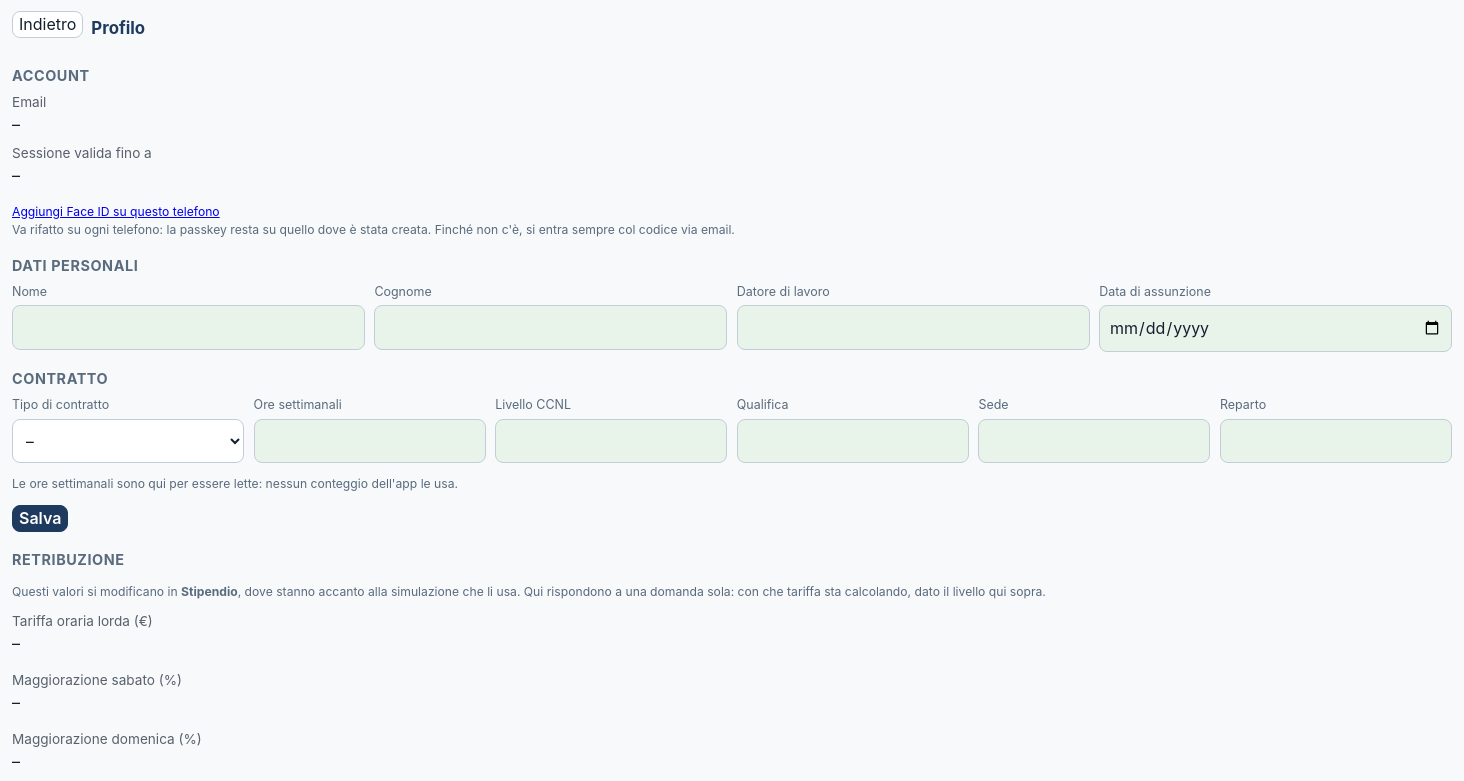
Profilo › keeps what she typed when the save fails
Type "Vanessa" into the field labelled "Nome" at (188, 327), box [12,305,365,350]
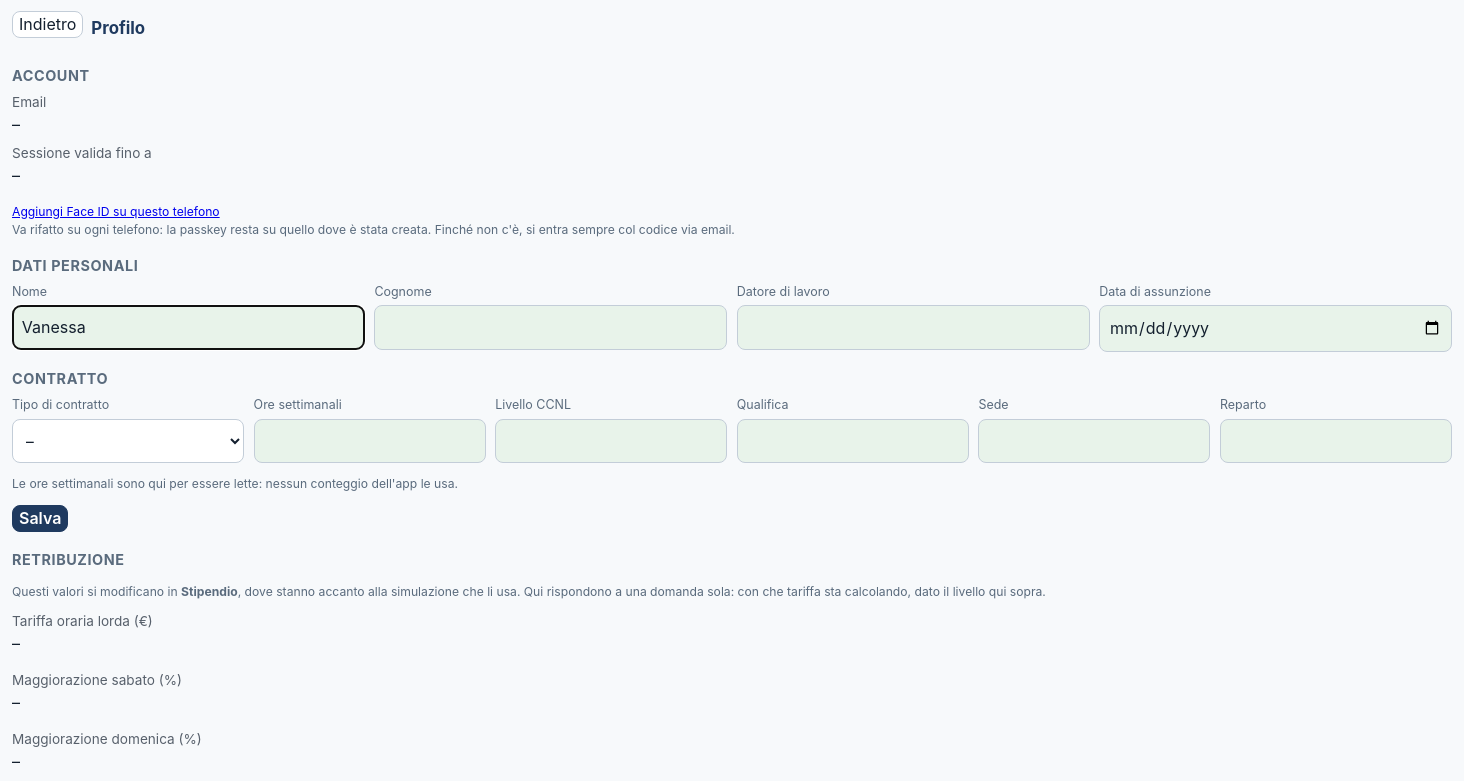
Click the button "Salva" at (40, 518), box [12,505,68,532]
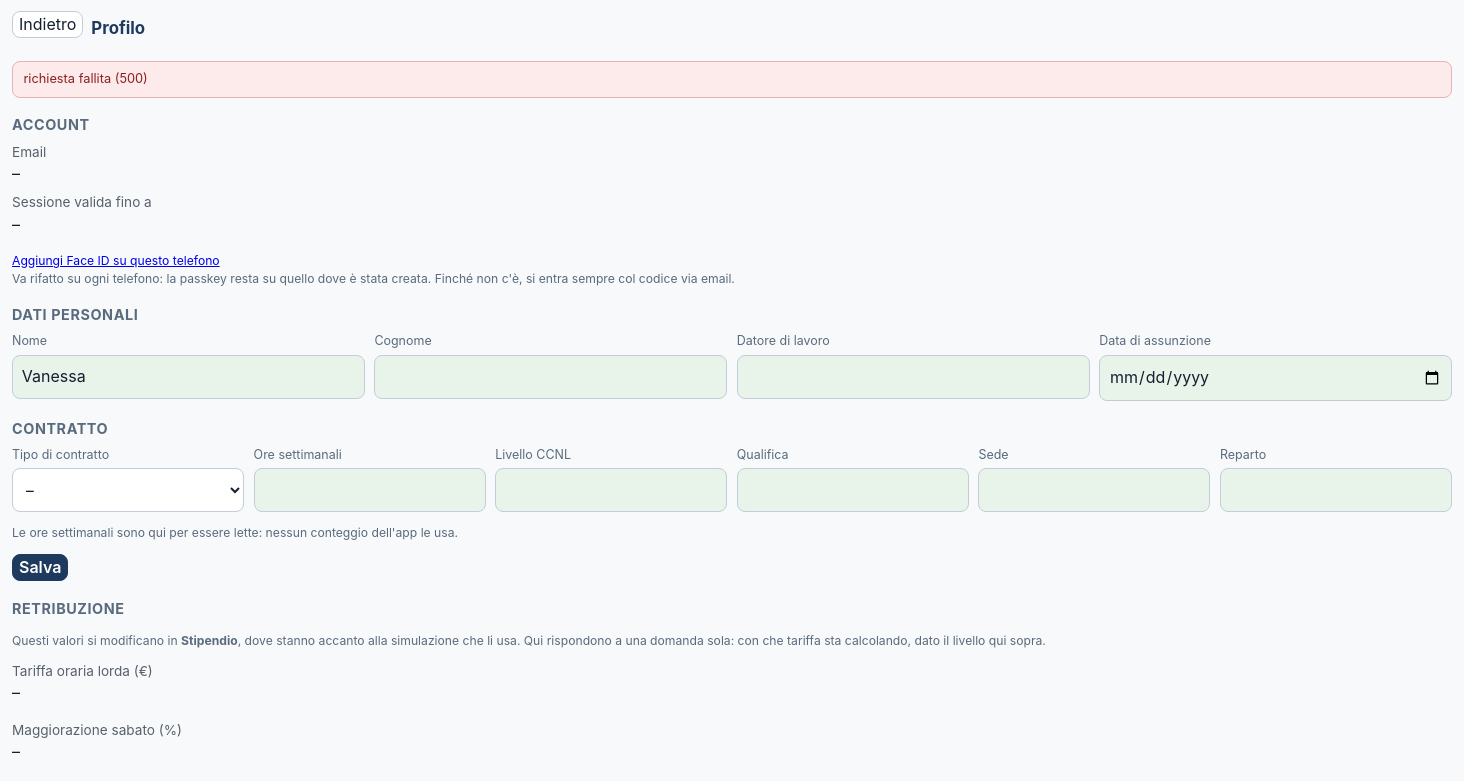
expect the message reads "richiesta fallita (500)": met, box [23,71,148,86]
